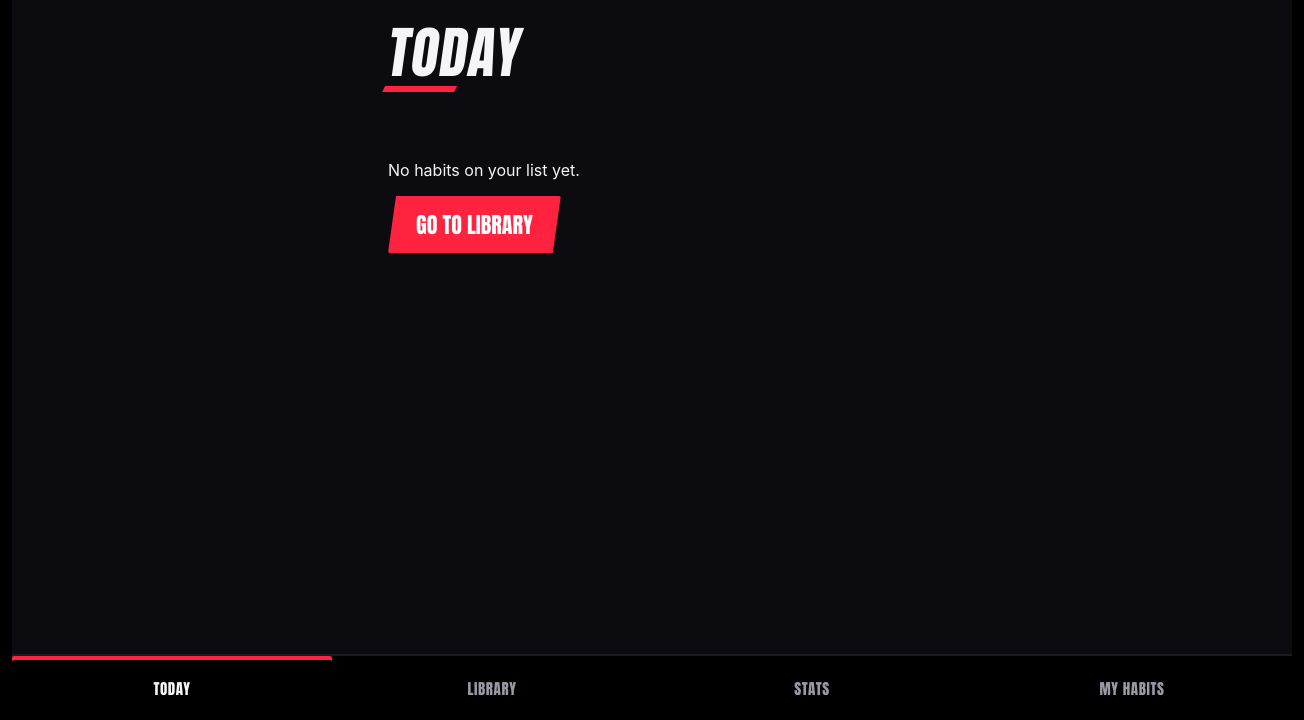
Test: Today › shows an empty state that links to the Library
Expected: the text "No habits on your list yet." is shown, top-left (388, 160), bottom-right (580, 180)
Click the button "Go to Library". click: (474, 224)
box: top-left (388, 196), bottom-right (561, 253)
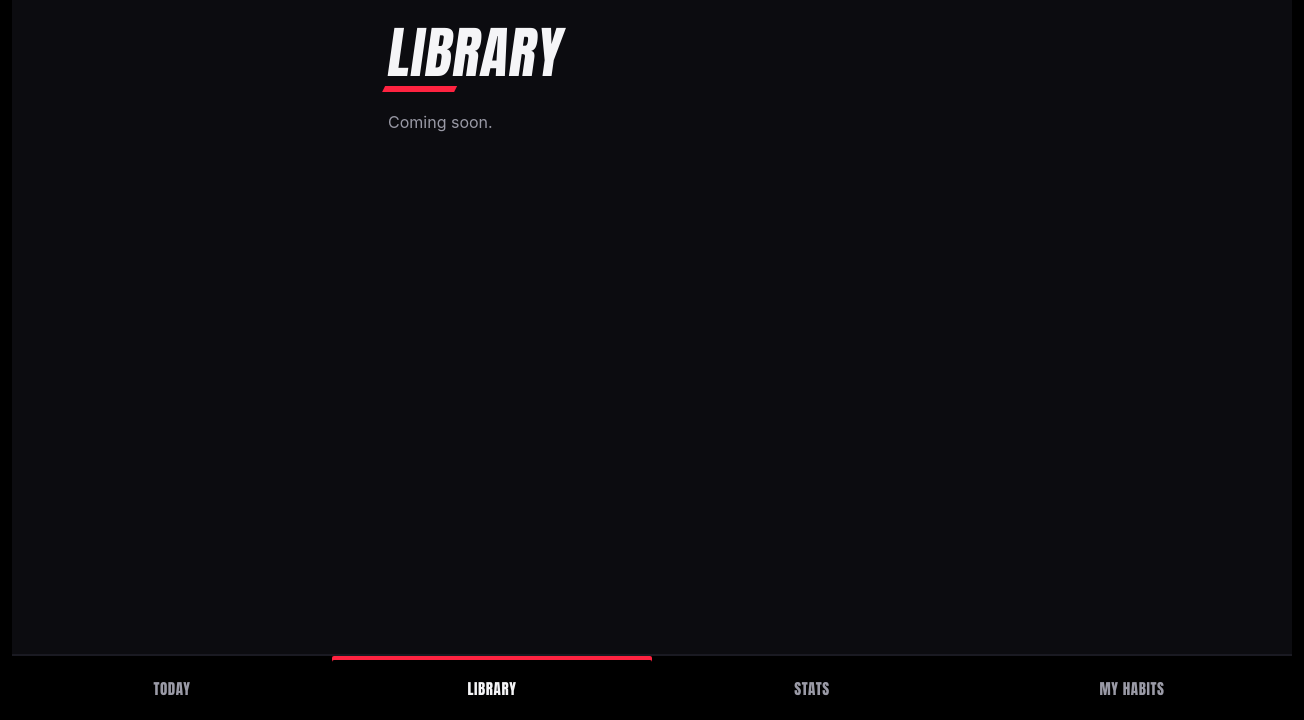
Now the heading "Library" is shown, box top-left (383, 10), bottom-right (570, 94)
